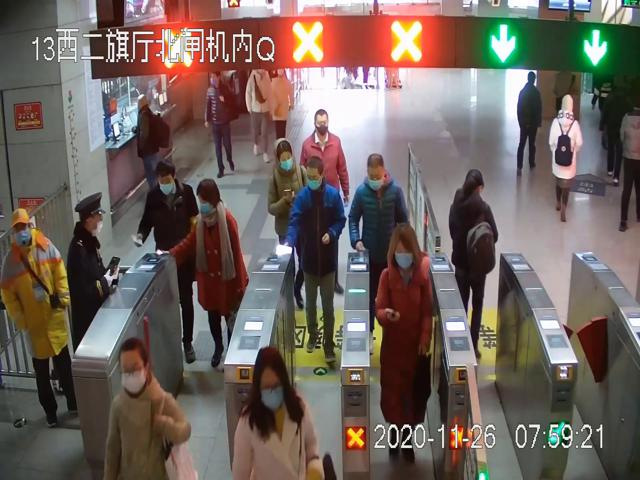person: (1, 204, 79, 431), (377, 224, 438, 465), (350, 148, 416, 356), (231, 348, 328, 480), (100, 340, 193, 477), (189, 178, 254, 370), (142, 160, 198, 365), (293, 155, 349, 359), (66, 190, 120, 343), (302, 109, 346, 292), (265, 138, 310, 311), (549, 89, 586, 224), (129, 94, 172, 196), (203, 68, 242, 178), (516, 72, 541, 179), (247, 60, 272, 161), (269, 64, 298, 148)
